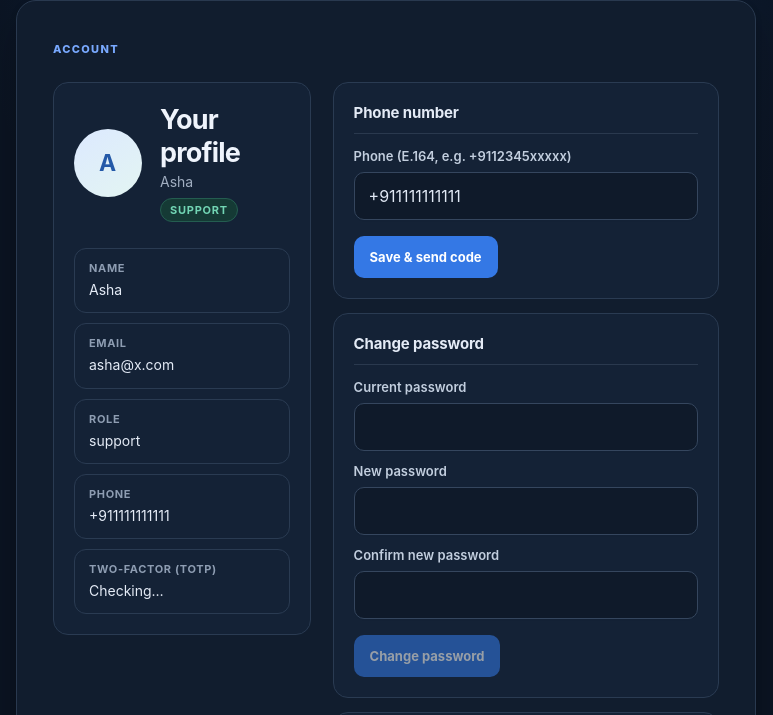
Test: ProfilePanel › surfaces a Cognito password-change failure without logging credentials
In the password field labelled "Current password": (526, 427) [354,403,698,451], type "WrongPassword!123"
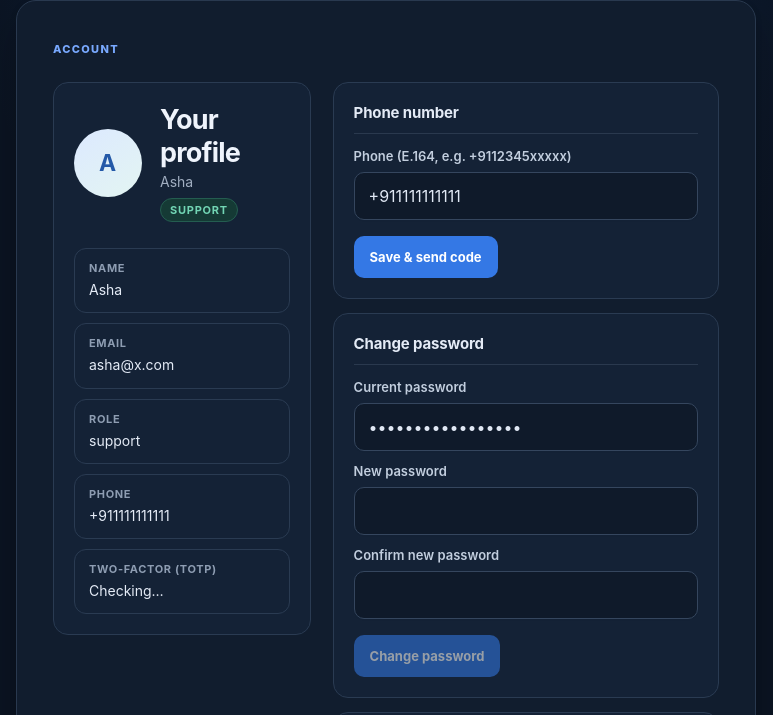
In the password field labelled "New password": (526, 511) [354,487,698,535], type "NewPassword!123"
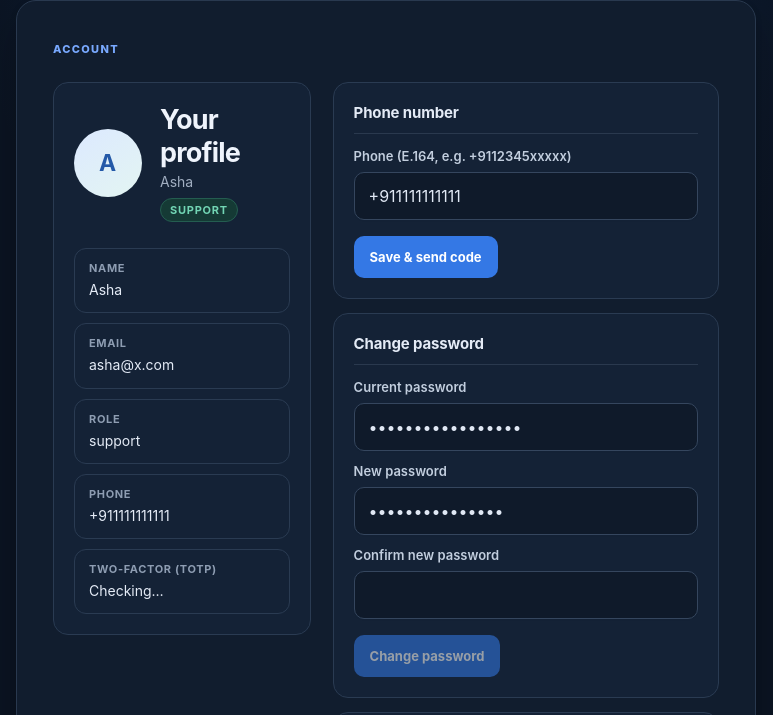
In the password field labelled "Confirm new password": (526, 595) [354,571,698,619], type "NewPassword!123"
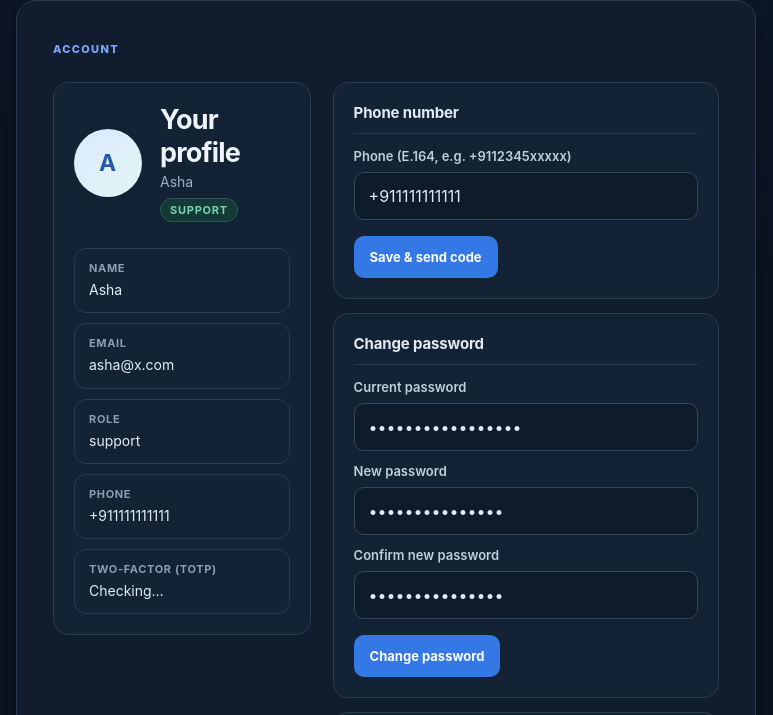
Click the button "Change password": (427, 656) [354,635,500,677]
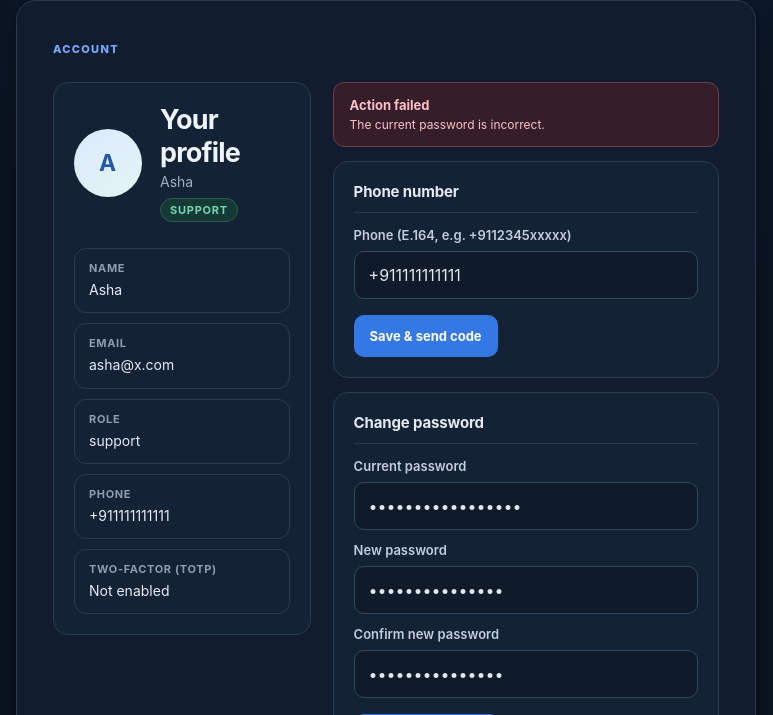
Expected: the text "The current password is incorrect." is shown, [350,117,545,132]
